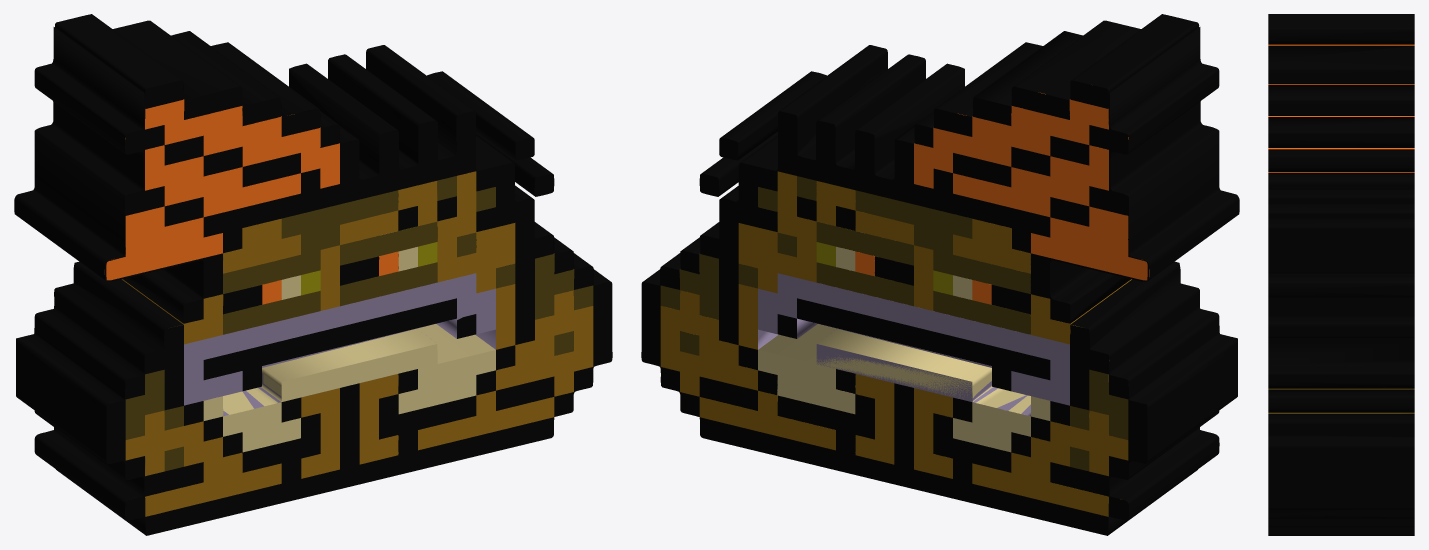
The model's file is Toadz_839.glb.
The picture shows the model from 3 angles, left to right: view 1: azimuth 30°, elevation 25°; view 2: azimuth 150°, elevation 25°; view 3: azimuth 270°, elevation 25°; orthographic projection. The views are drawn at different scales.
Parts seen in each view (by area): view 1: Curve; view 2: Curve; view 3: Curve.
Part boxes in pixels (<box>): Curve: <box>14,14,612,535</box>; Curve: <box>641,14,1239,535</box>; Curve: <box>1268,14,1414,535</box>.
Bounding box in the file's own units: 3.24 × 2.73 × 1.
